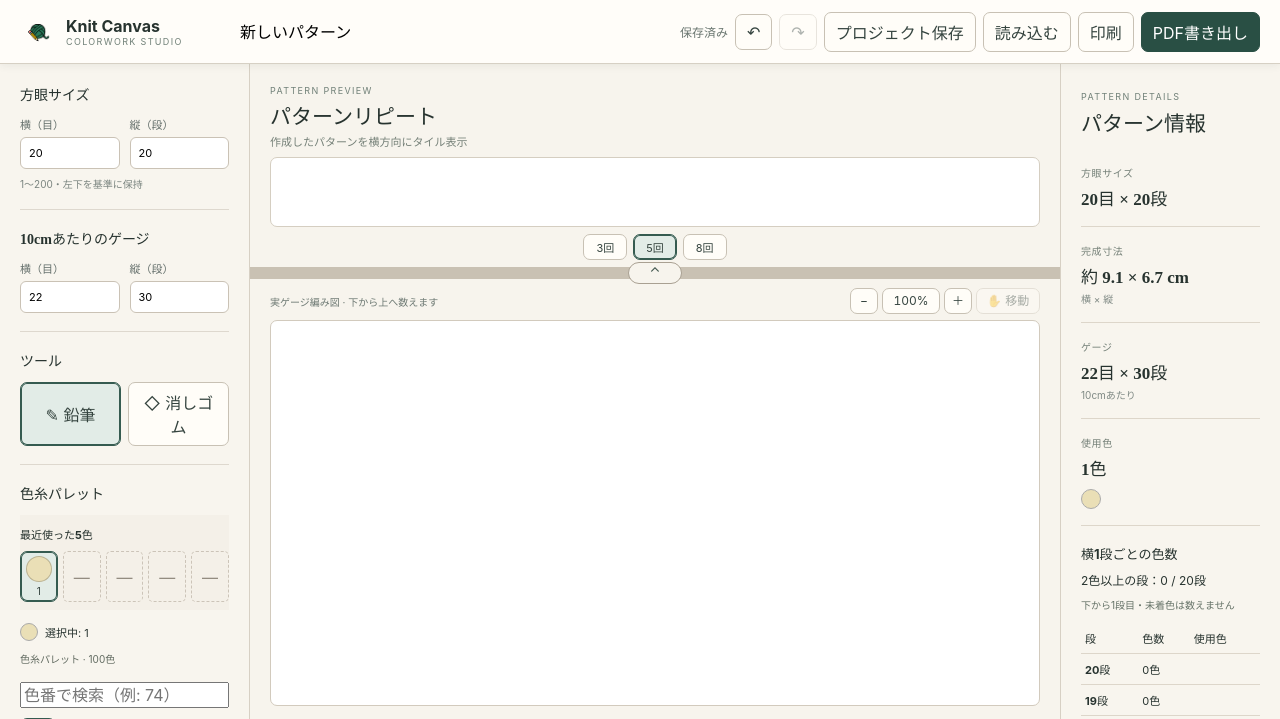
App › allows resizing after drawing with an in-app confirmation
Step 1. Replace the text in the 1st number field labelled "横（目）" with "10" → [70, 153], box [20, 137, 120, 169]
Then press Enter
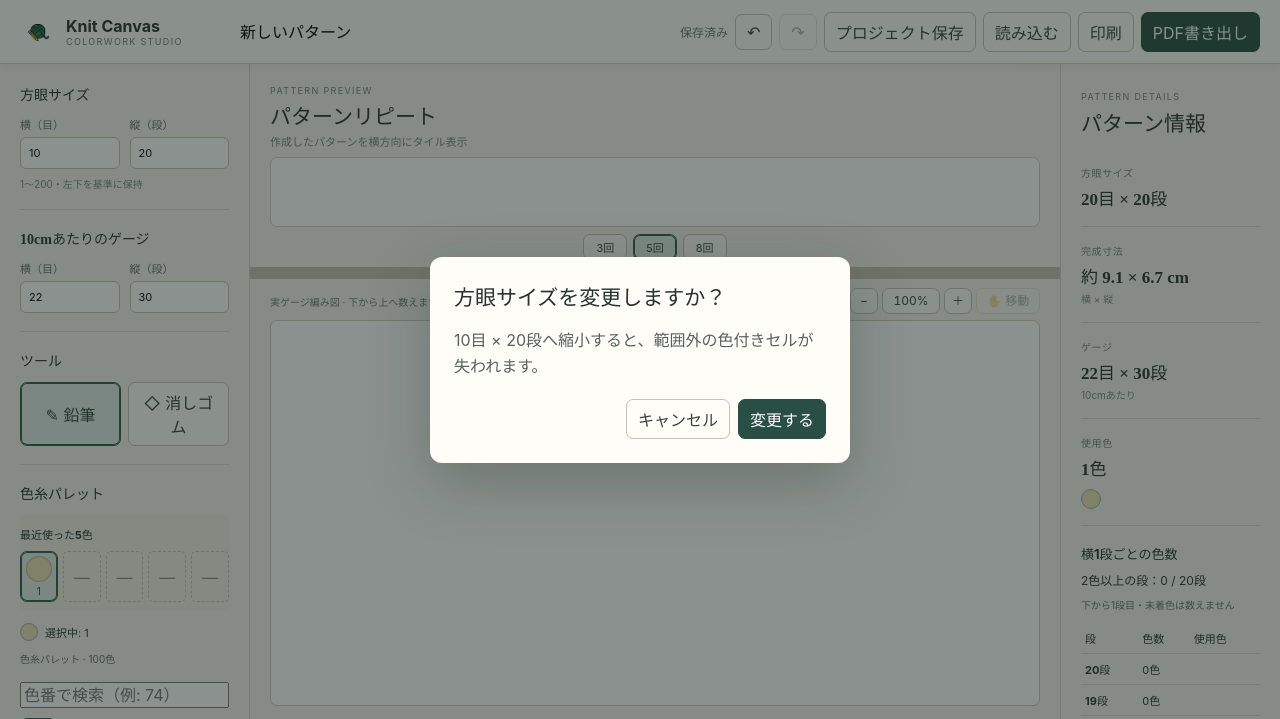
Now the dialog shows "範囲外の色付きセル", box [454, 330, 813, 376]
Step 2. Click the button "変更する" → [782, 419], box [738, 399, 826, 439]
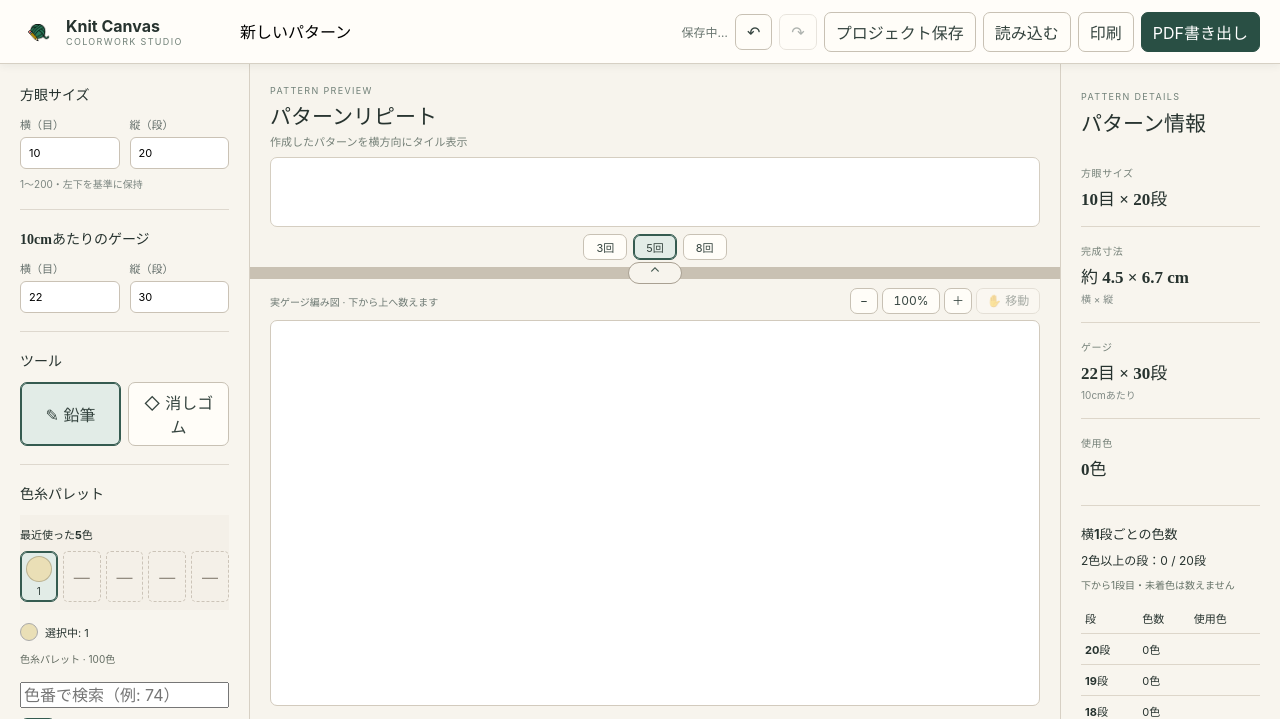
Now the dialog is gone
